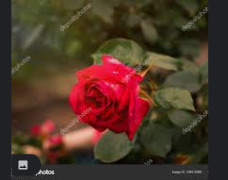RedRose: (64, 51, 156, 141)
